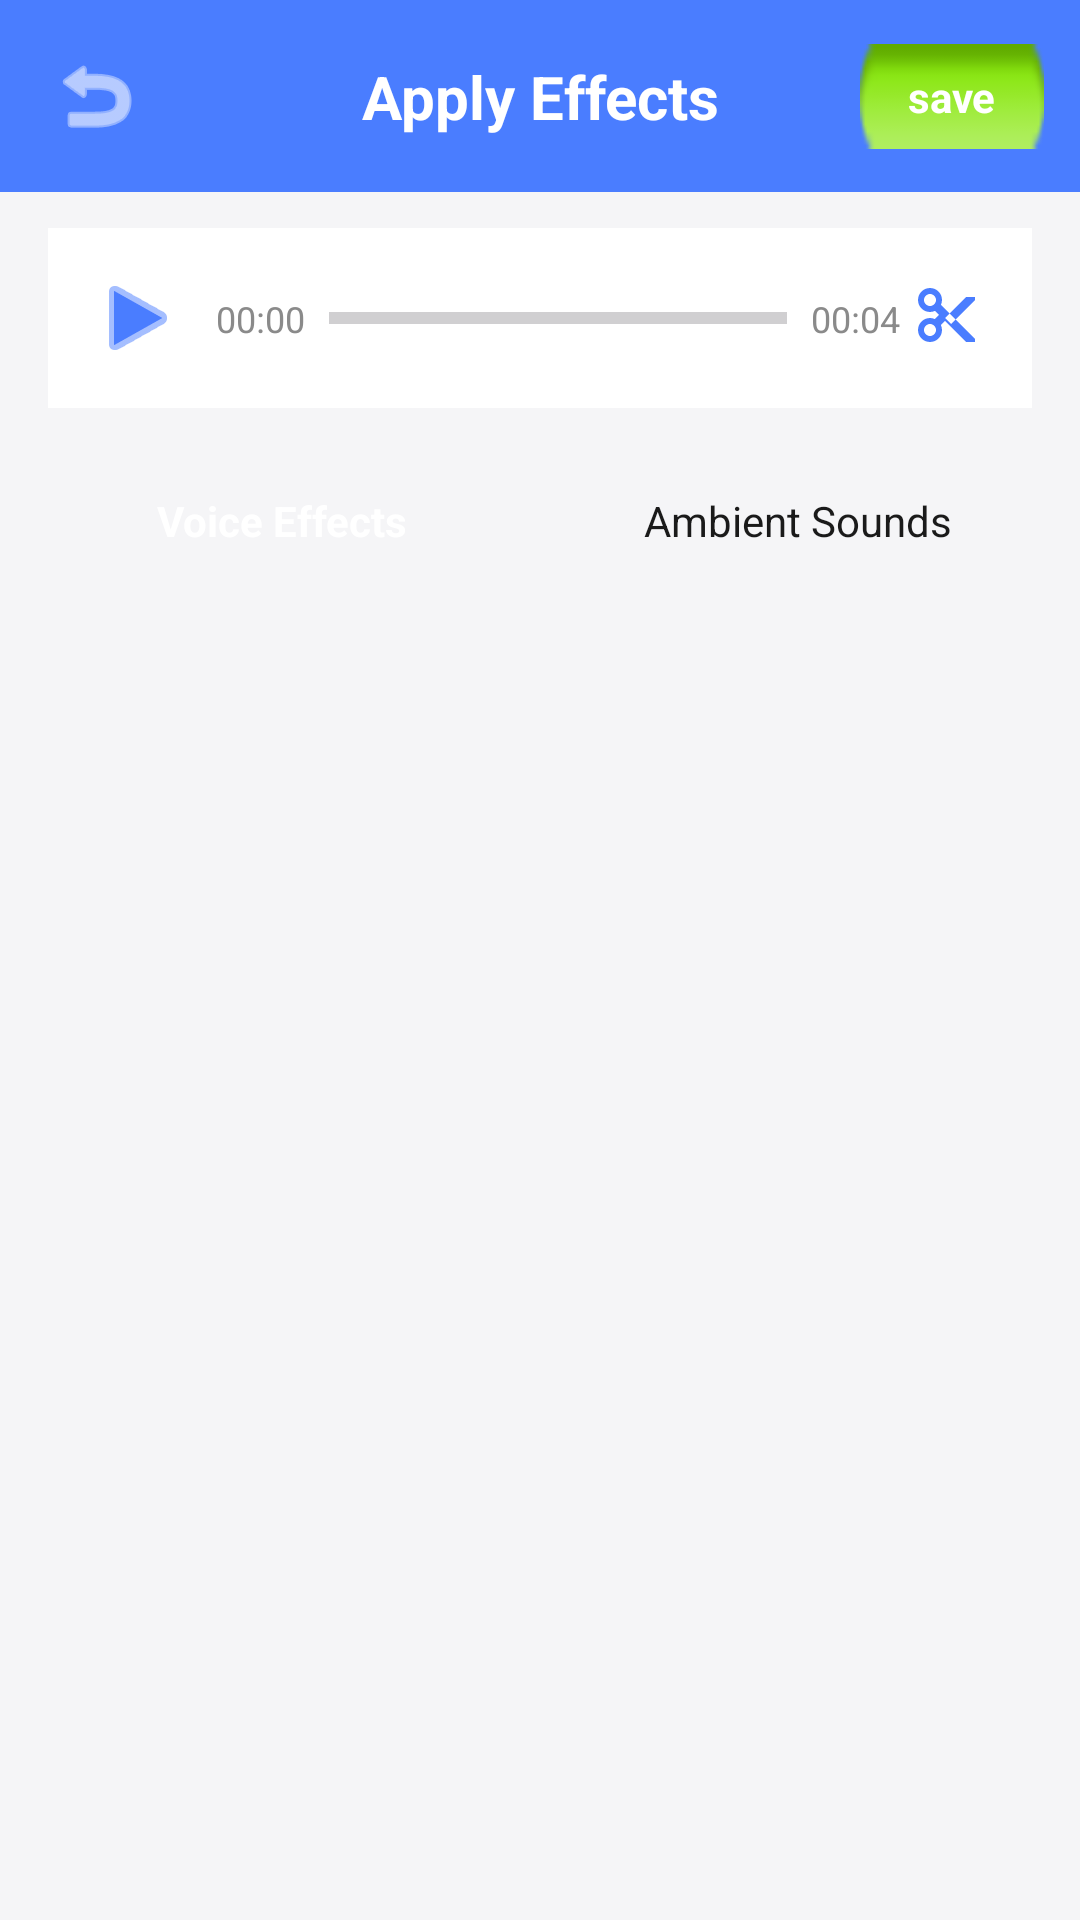

Screen size 1080*1920. Icon name, then its box in pixels as (x1,y1,x2,y2):
Back: (63,65,132,128)
Play preview: (109,286,167,350)
Trim voice: (918,288,975,342)
